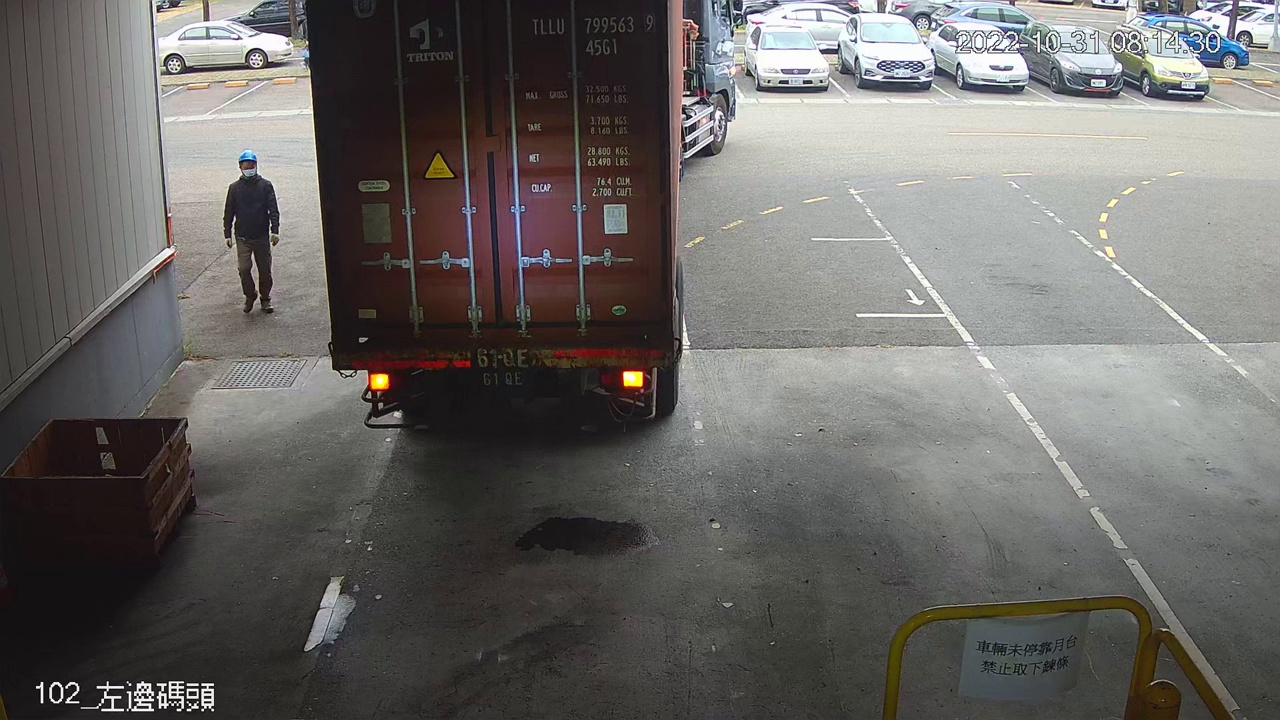container: (525, 7, 659, 61)
